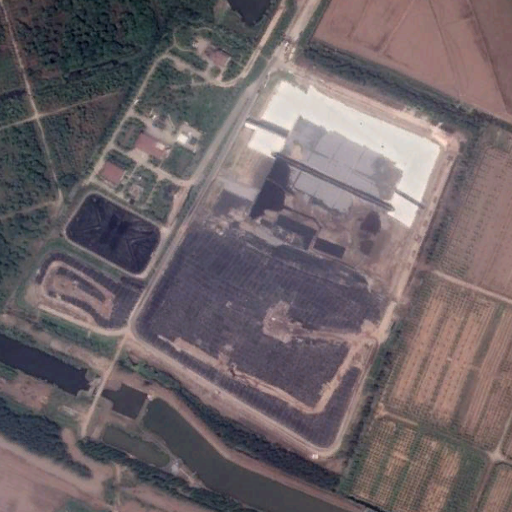lf: (141, 74, 439, 453)
